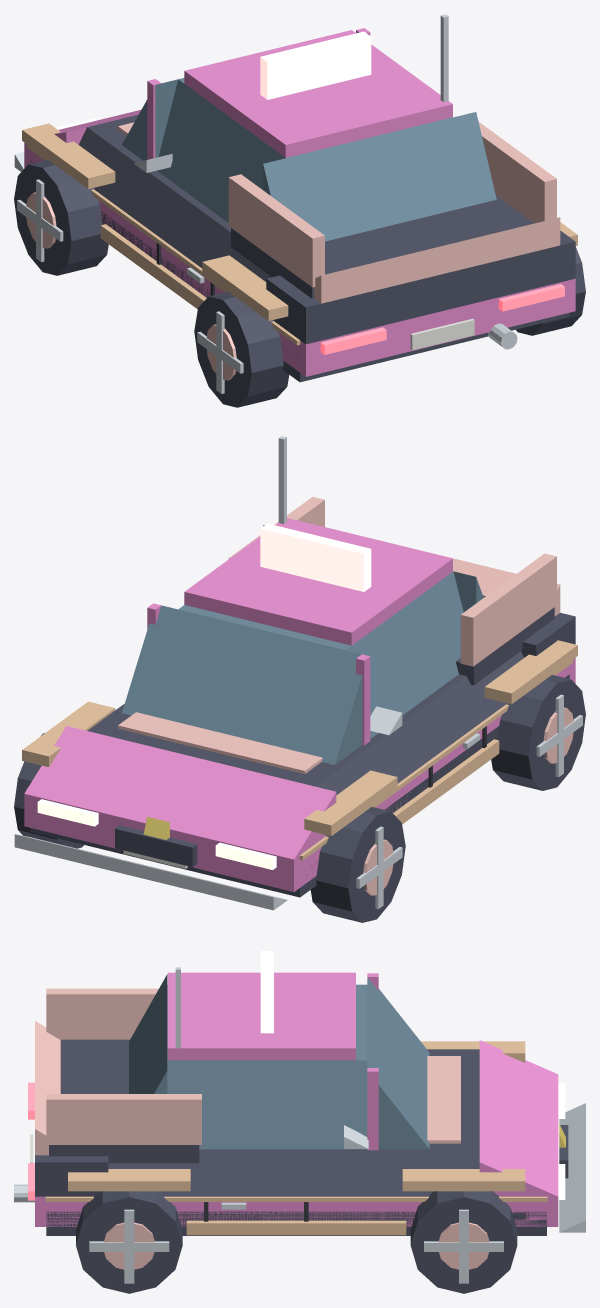
File: civic_scoot.glb
The picture shows the model from 3 angles, top to bottom: view 1: azimuth 30°, elevation 25°; view 2: azimuth 150°, elevation 25°; view 3: azimuth 270°, elevation 25°; orthographic projection. The views are drawn at different scales.
Parts seen in each view (by area): view 1: RearWindow.141, Roof.241, Tail.041, Body.241, CabinSideL.038, PickupBed.012, ShoulderL.038, Ducktail.029, Wheel_RL.201, Wheel_FL.201, BedRail-1.012, RoofSign.023 (+22 smaller); view 2: Windshield.141, Nose.038, Roof.241, CabinSideL.038, ShoulderL.038, Body.241, Wheel_FL.201, Wheel_RL.201, BedRail-1.012, RoofSign.023, Hood.237, BodyUpper.038 (+22 smaller); view 3: CabinSideR.038, Roof.241, ShoulderR.038, Nose.038, BedRail1.012, Windshield.141, Wheel_RR.201, Wheel_FR.201, Body.241, PickupBed.012, BedRail-1.012, Sill.237 (+22 smaller).
Boxes of the visible parts, left/top/right/bottom form: RearWindow.141: left=263, top=112, right=496, bottom=241; Roof.241: left=184, top=30, right=452, bottom=157; Tail.041: left=266, top=230, right=575, bottom=344; Body.241: left=24, top=142, right=575, bottom=376; CabinSideL.038: left=157, top=79, right=285, bottom=222; PickupBed.012: left=231, top=195, right=533, bottom=298; ShoulderL.038: left=78, top=127, right=271, bottom=281; Ducktail.029: left=314, top=217, right=560, bottom=303; Wheel_RL.201: left=194, top=292, right=289, bottom=407; Wheel_FL.201: left=14, top=159, right=108, bottom=275; BedRail-1.012: left=228, top=174, right=324, bottom=287; RoofSign.023: left=260, top=31, right=371, bottom=99; Windshield.141: left=122, top=605, right=362, bottom=764; Nose.038: left=24, top=726, right=336, bottom=859; Roof.241: left=184, top=518, right=452, bottom=645; CabinSideL.038: left=346, top=571, right=463, bottom=738; ShoulderL.038: left=316, top=651, right=523, bottom=794; Body.241: left=24, top=658, right=575, bottom=891; Wheel_FL.201: left=310, top=807, right=405, bottom=922; Wheel_RL.201: left=491, top=675, right=585, bottom=790; BedRail-1.012: left=460, top=553, right=556, bottom=666; RoofSign.023: left=260, top=523, right=371, bottom=591; Hood.237: left=118, top=712, right=322, bottom=774; BodyUpper.038: left=87, top=674, right=466, bottom=786; CabinSideR.038: left=167, top=1060, right=367, bottom=1149; Roof.241: left=167, top=972, right=355, bottom=1060; ShoulderR.038: left=108, top=1153, right=479, bottom=1196; Nose.038: left=479, top=1040, right=558, bottom=1196; BedRail1.012: left=46, top=1094, right=201, bottom=1144; Windshield.141: left=367, top=977, right=429, bottom=1149; Wheel_RR.201: left=76, top=1191, right=182, bottom=1293; Wheel_FR.201: left=410, top=1191, right=517, bottom=1293; Body.241: left=35, top=1196, right=558, bottom=1226; PickupBed.012: left=49, top=1039, right=199, bottom=1163; BedRail-1.012: left=46, top=988, right=158, bottom=1039; Sill.237: left=46, top=1211, right=546, bottom=1235.
Bounding box in the file's own units: 3.3 × 2.84 × 5.14.
